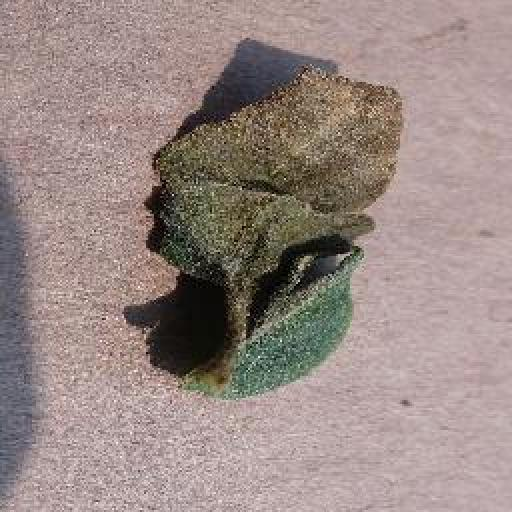disease_tomato: (144, 67, 406, 401)
